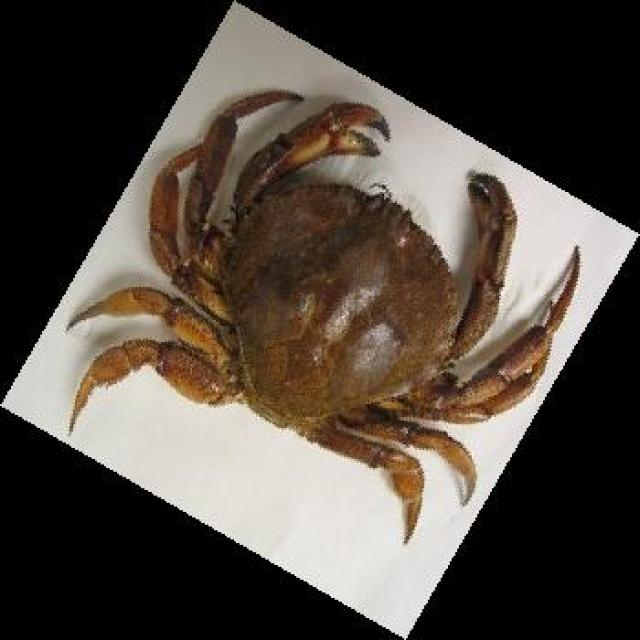Native Rock crab: (69, 90, 580, 541)
